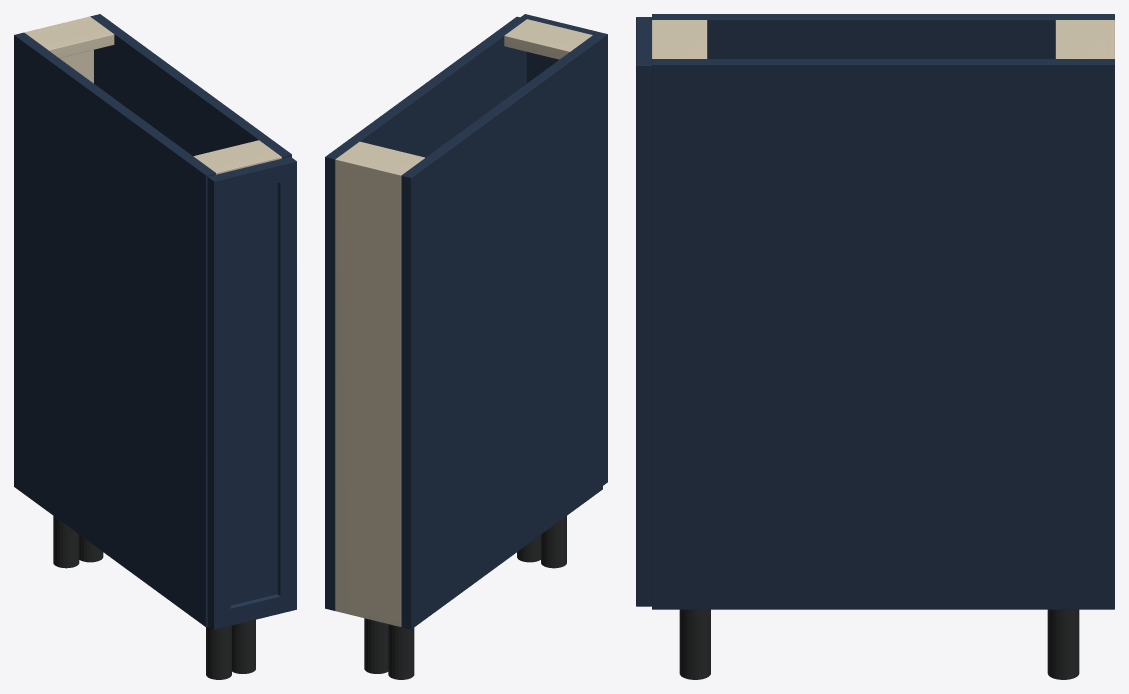
The model's file is oppein-ply-bss-b06fh.glb.
3 views of the same model, side by side, from view 1: azimuth 30°, elevation 25°; view 2: azimuth 150°, elevation 25°; view 3: azimuth 270°, elevation 25° (orthographic). The views are drawn at different scales.
Parts seen in each view (by area): view 1: Cabinet side, Door, Cabinet side.001, Top support rail, Top support rail.001, Adjustable foot.001, Adjustable foot.003, Adjustable foot, Cabinet back, Adjustable foot.002; view 2: Cabinet side, Cabinet back, Cabinet side.001, Door, Top support rail.001, Adjustable foot, Top support rail, Adjustable foot.002, Adjustable foot.001, Cabinet bottom, Adjustable foot.003; view 3: Cabinet side.001, Cabinet side, Door, Adjustable foot.002, Adjustable foot.003, Top support rail.001, Top support rail.
Part boxes in pixels (box(x1,y1,x2,y2)): Cabinet side: box(14, 32, 215, 626); Door: box(207, 156, 296, 629); Cabinet side.001: box(90, 14, 291, 158); Top support rail: box(26, 19, 114, 58); Top support rail.001: box(193, 140, 281, 174); Adjustable foot.001: box(206, 625, 231, 679); Adjustable foot.003: box(232, 619, 255, 673); Adjustable foot: box(53, 516, 79, 568); Cabinet back: box(24, 16, 93, 83); Adjustable foot.002: box(79, 535, 103, 562); Cabinet side: box(401, 35, 602, 629); Cabinet back: box(335, 156, 403, 626); Cabinet side.001: box(325, 16, 526, 610); Door: box(520, 14, 607, 485); Top support rail.001: box(504, 19, 592, 59); Adjustable foot: box(388, 624, 414, 679); Top support rail: box(339, 141, 424, 173); Adjustable foot.002: box(364, 618, 388, 673); Adjustable foot.001: box(541, 516, 566, 568); Cabinet bottom: box(335, 605, 401, 626); Adjustable foot.003: box(517, 535, 540, 562); Cabinet side.001: box(652, 59, 1114, 609); Cabinet side: box(652, 14, 1114, 58); Door: box(636, 17, 651, 606); Adjustable foot.002: box(1047, 609, 1079, 679); Adjustable foot.003: box(679, 609, 710, 679); Top support rail.001: box(652, 20, 707, 58); Top support rail: box(1055, 20, 1109, 58).
Size of the model in its own units: 0.1524 by 0.8763 by 0.6064.
